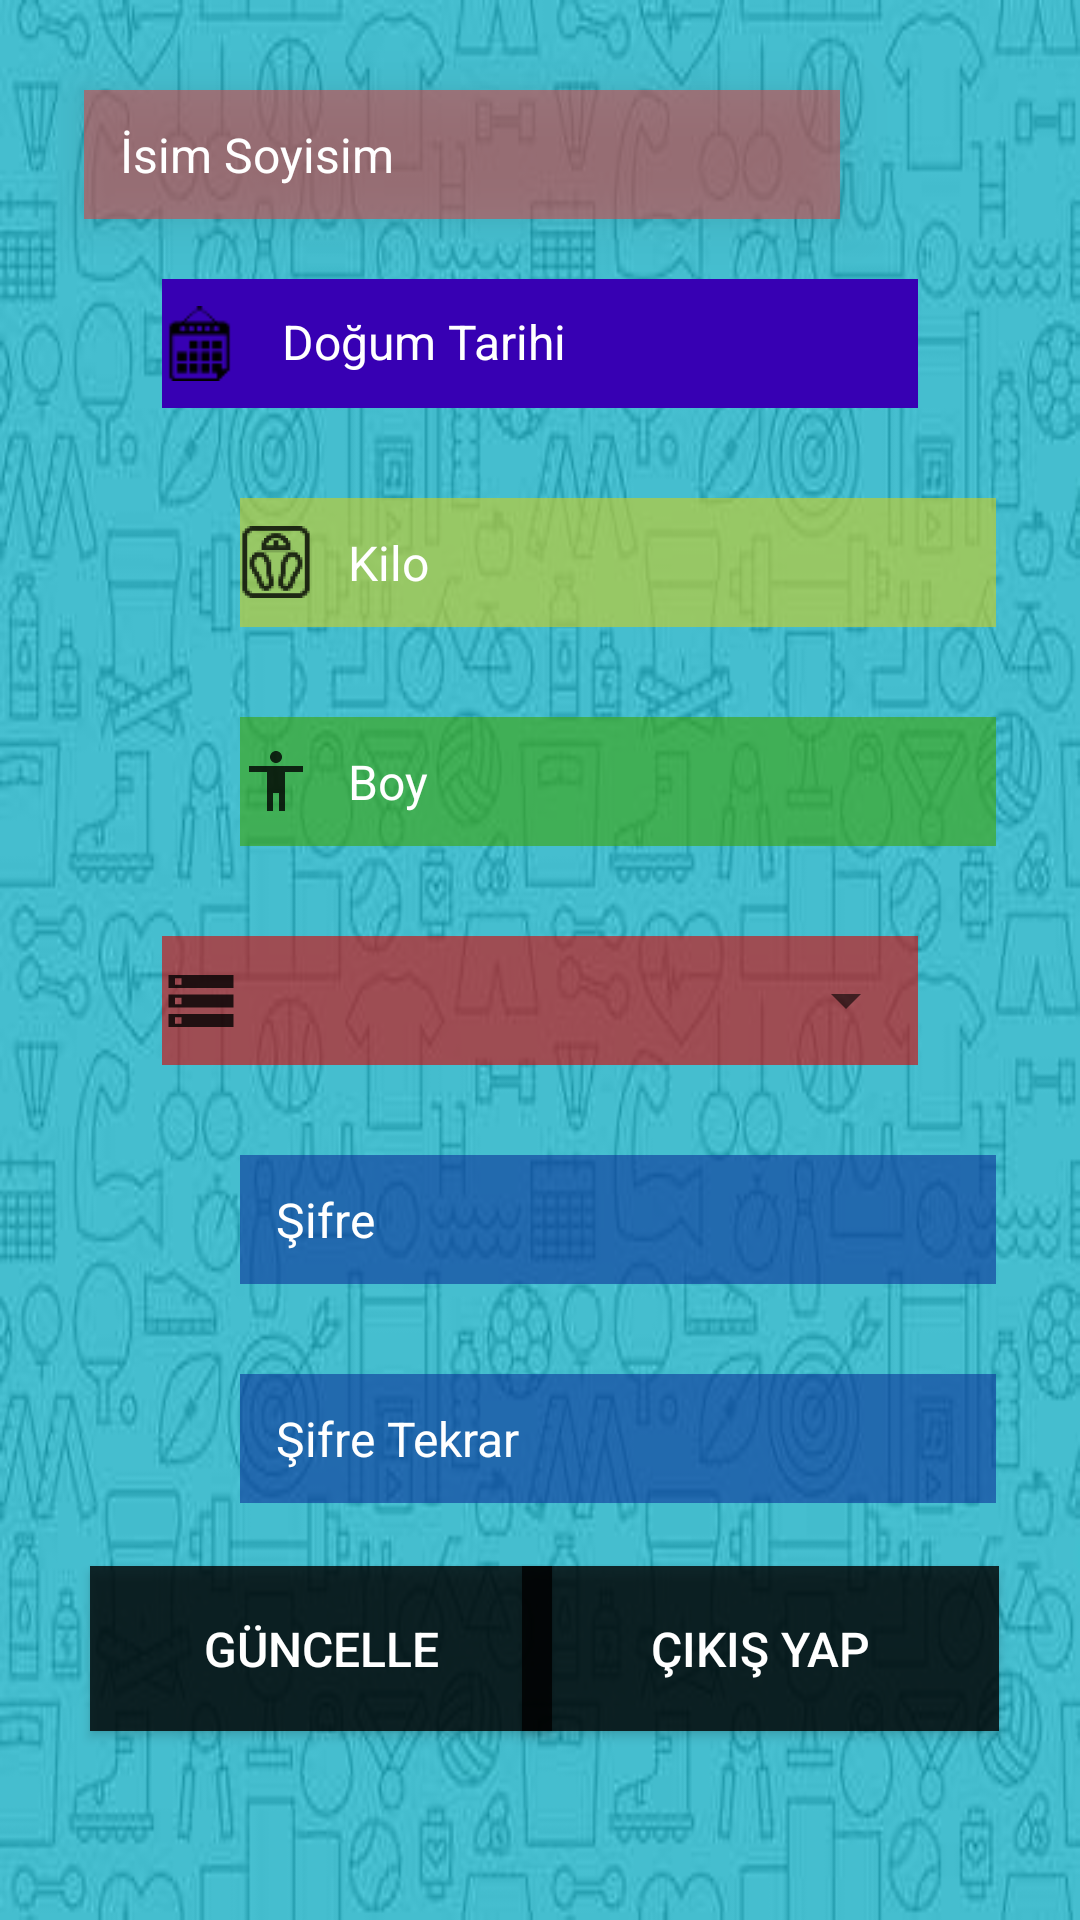

Icon bounding boxes for this 1080 × 1920 phone screenshot, format box=[x1, y1, x2, y2]:
dayicon: box=[169, 306, 230, 381]
